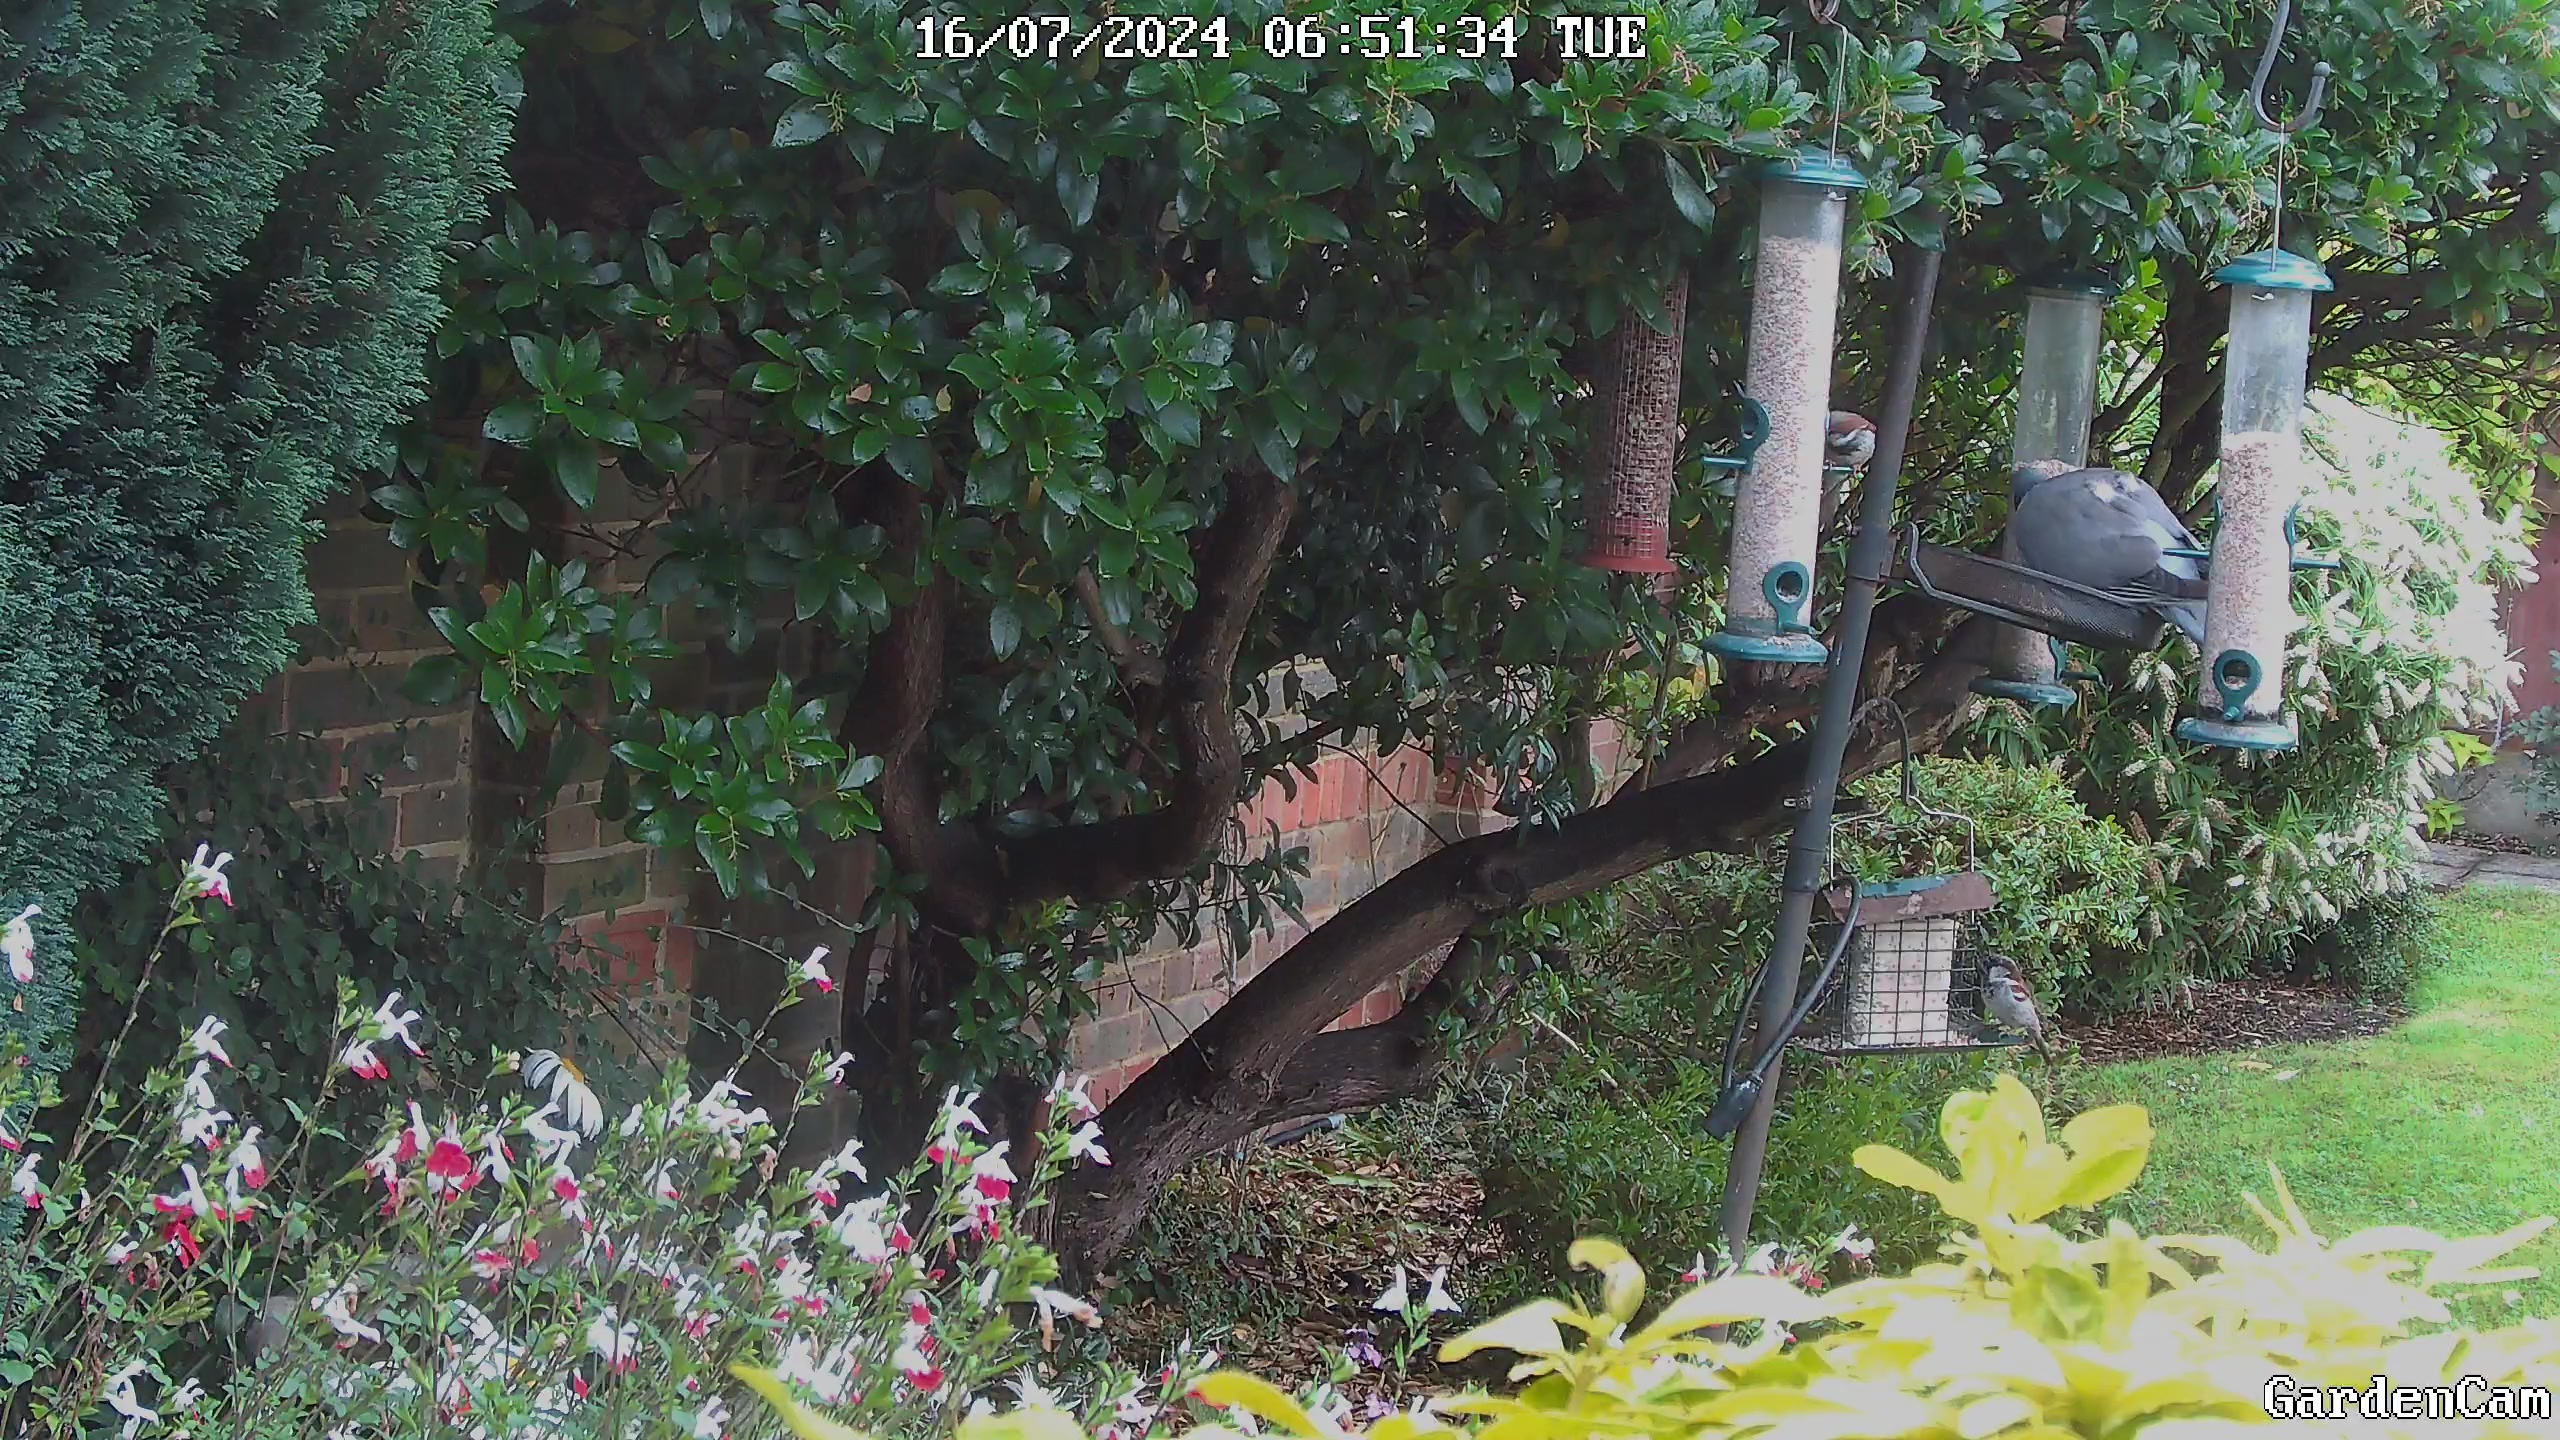House_Sparrow: (1938, 932, 2089, 1065), (1788, 403, 1897, 535)
Wood_Pigeon: (1976, 436, 2265, 684)
